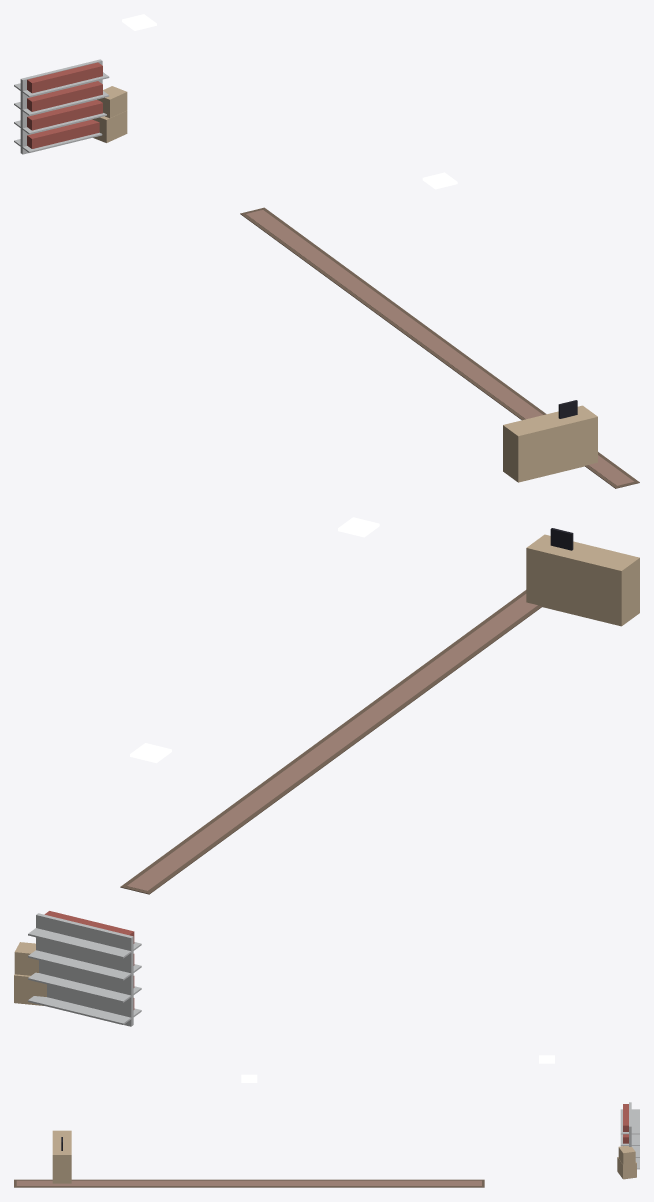
The model's file is fine-s0.glb.
3 views of the same model, one above another, from view 1: azimuth 30°, elevation 25°; view 2: azimuth 150°, elevation 25°; view 3: azimuth 270°, elevation 25° (orthographic). The views are drawn at different scales.
Parts seen in each view (by area): view 1: soft-s0, shelving.000, shop-counter.000, cardboard-box.000; view 2: soft-s0, shelving.000, shop-counter.000, cardboard-box.000; view 3: soft-s0, shop-counter.000, shelving.000, cardboard-box.000.
Boxes of the visible parts, bbox=[...] form: soft-s0: bbox=[240, 207, 639, 488]; shelving.000: bbox=[14, 59, 109, 154]; shop-counter.000: bbox=[503, 400, 597, 482]; cardboard-box.000: bbox=[92, 86, 127, 142]; soft-s0: bbox=[120, 590, 542, 894]; shelving.000: bbox=[28, 911, 141, 1026]; shop-counter.000: bbox=[526, 528, 639, 626]; cardboard-box.000: bbox=[14, 942, 46, 1005]; soft-s0: bbox=[14, 1179, 484, 1187]; shop-counter.000: bbox=[52, 1130, 71, 1183]; shelving.000: bbox=[620, 1102, 639, 1169]; cardboard-box.000: bbox=[617, 1146, 636, 1179].
Size of the model in its own units: 2.85 by 3.63 by 19.5.
